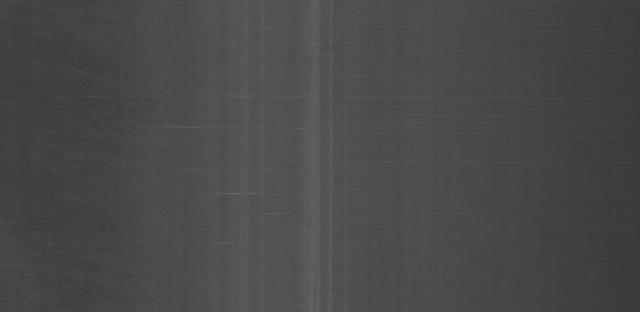waist_folding: (140, 23, 368, 288)
